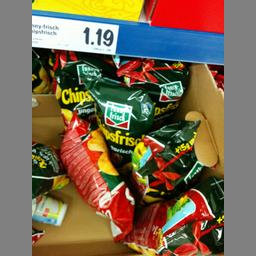chips: (57, 108, 134, 238), (78, 66, 177, 164), (129, 118, 202, 200)
